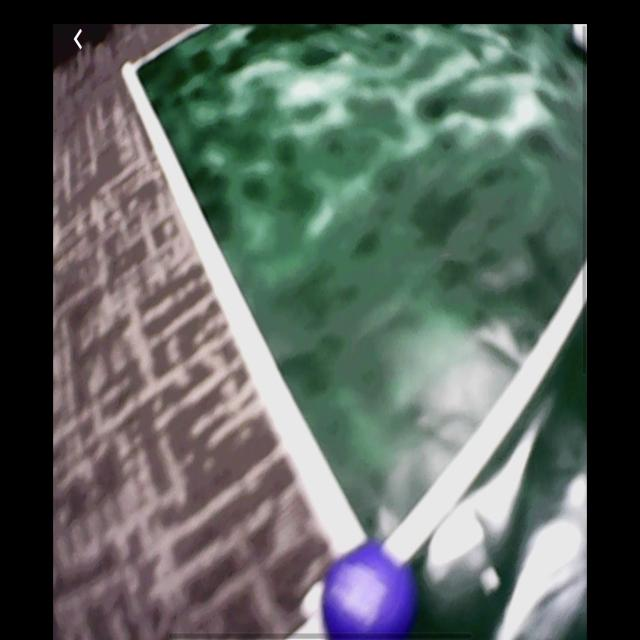ball: (324, 545, 421, 638)
